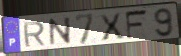7: (74, 13, 96, 47)
9: (153, 7, 174, 38)
F: (124, 8, 150, 42)
N: (47, 16, 73, 48)
R: (22, 20, 47, 48)
X: (98, 12, 127, 42)
